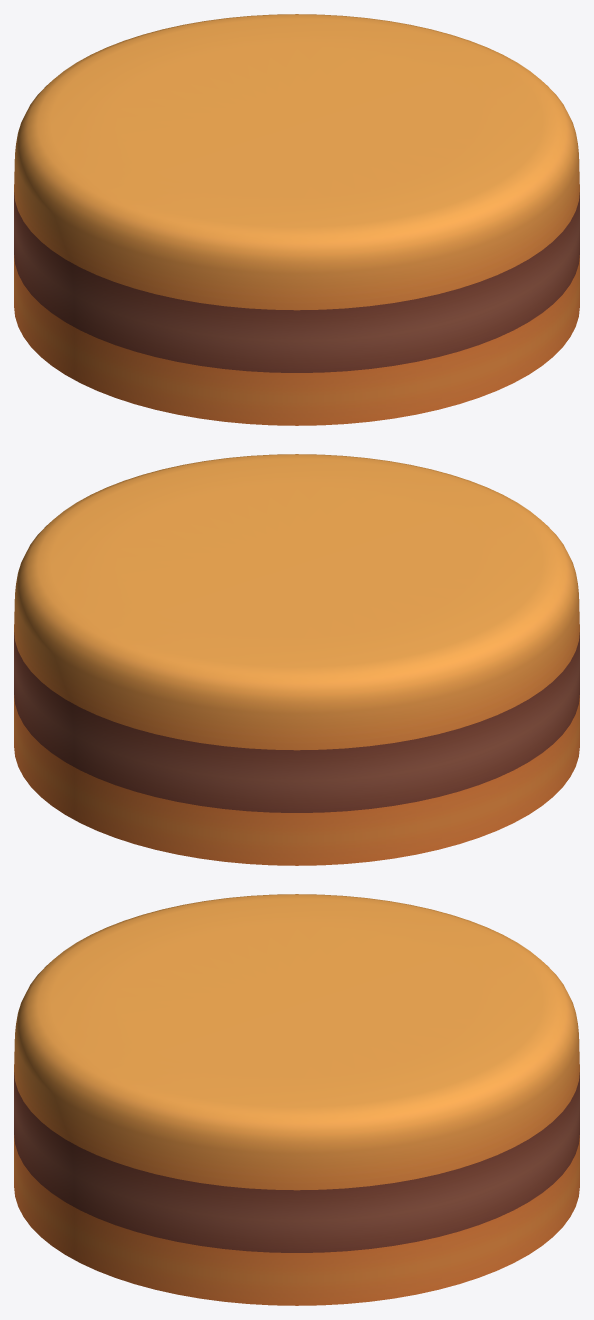
The model's file is cake02.FBX.
The picture shows the model from 3 angles, top to bottom: view 1: azimuth 30°, elevation 25°; view 2: azimuth 150°, elevation 25°; view 3: azimuth 270°, elevation 25°; orthographic projection.
Parts seen in each view (by area): view 1: cake02; view 2: cake02; view 3: cake02.
Part boxes in pixels (x1=…): cake02: x1=14, y1=14, x2=579, y2=425; cake02: x1=14, y1=454, x2=579, y2=865; cake02: x1=14, y1=894, x2=579, y2=1305.
Size of the model in its own units: 0.0193 by 0.00693 by 0.0193.
